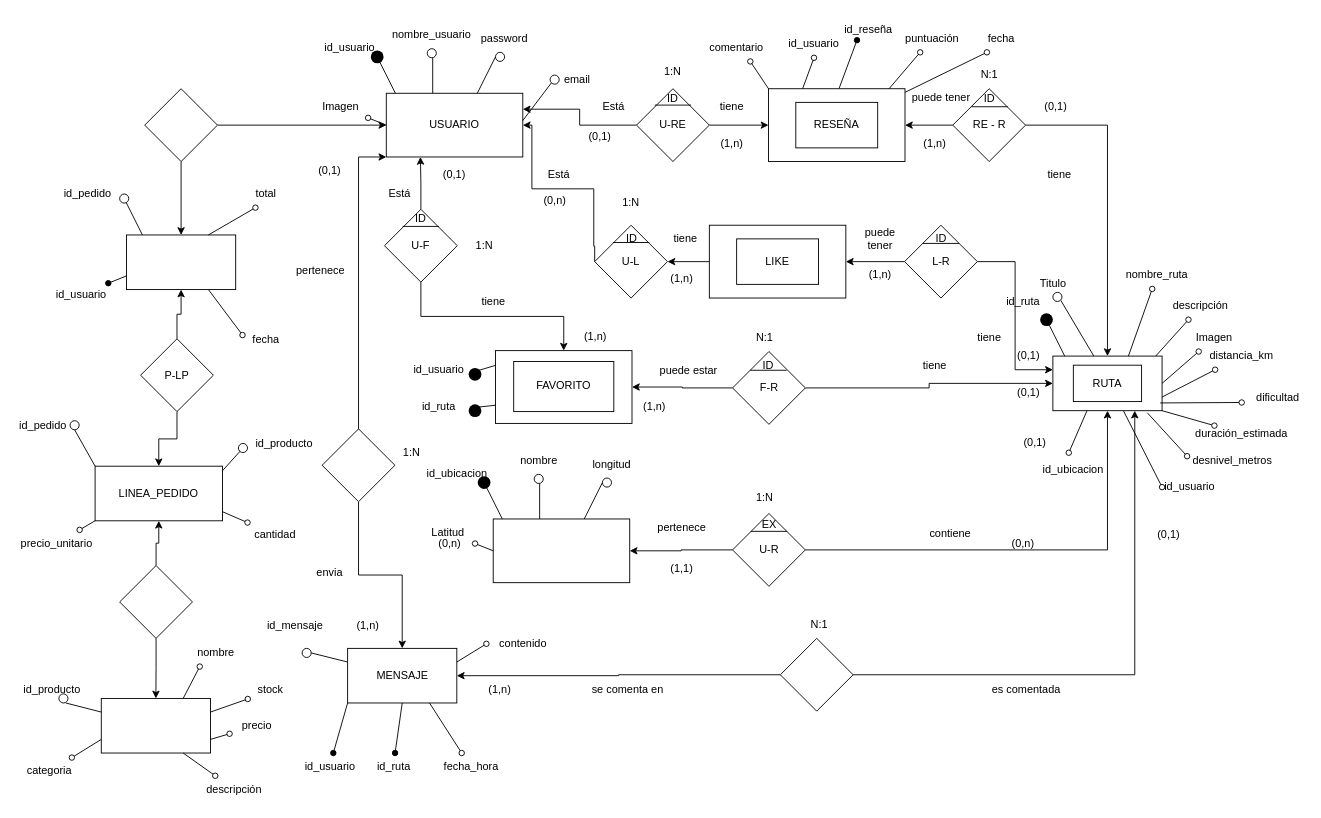
Image size: 1321x818. Some labels were removed from this diagram. The shapes that lost their labels are listed below. From the top down, each one's centre as x and y in pixels, then its label:
At pixel 180 125: "U-P".
At pixel 181 262: "PEDIDO".
At pixel 358 465: "U-M".
At pixel 561 550: "UBICACION".
At pixel 155 601: "LP-PR".
At pixel 816 674: "M-R".
At pixel 155 725: "PRODUCTO".
